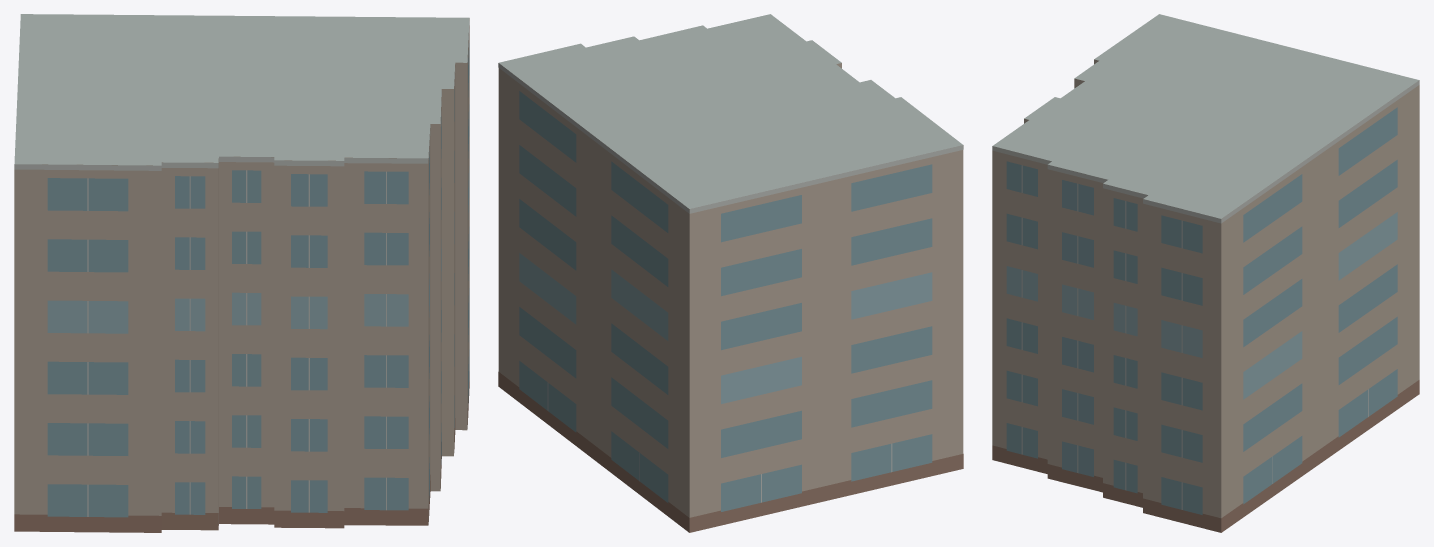
The model's file is survey-upis-33043546.glb.
3 views of the same model, side by side, from view 1: azimuth 30°, elevation 25°; view 2: azimuth 150°, elevation 25°; view 3: azimuth 270°, elevation 25° (orthographic). The views are drawn at different scales.
Parts seen in each view (by area): view 1: survey-upis-33043546.tmp; view 2: survey-upis-33043546.tmp; view 3: survey-upis-33043546.tmp.
Boxes of the visible parts, x1,y1,x2,y2 form: survey-upis-33043546.tmp: (14, 14, 469, 532); survey-upis-33043546.tmp: (498, 14, 963, 532); survey-upis-33043546.tmp: (992, 14, 1419, 532).
Bounding box in the file's own units: 23.24 × 16.6 × 20.47.
